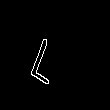L_NE: (36, 26, 74, 84)
